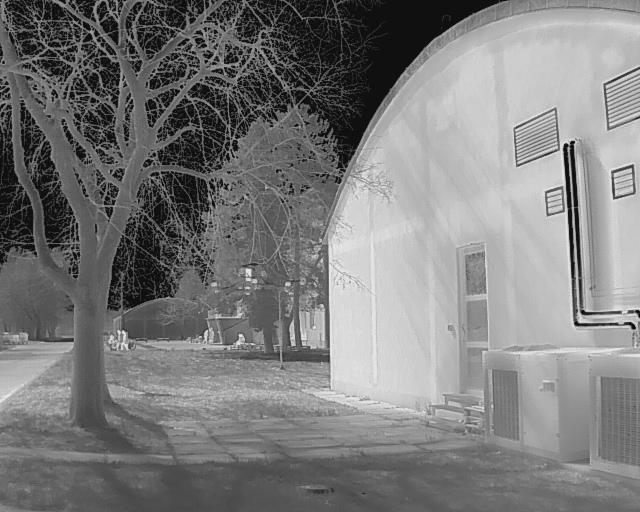drone: (205, 254, 308, 308)
